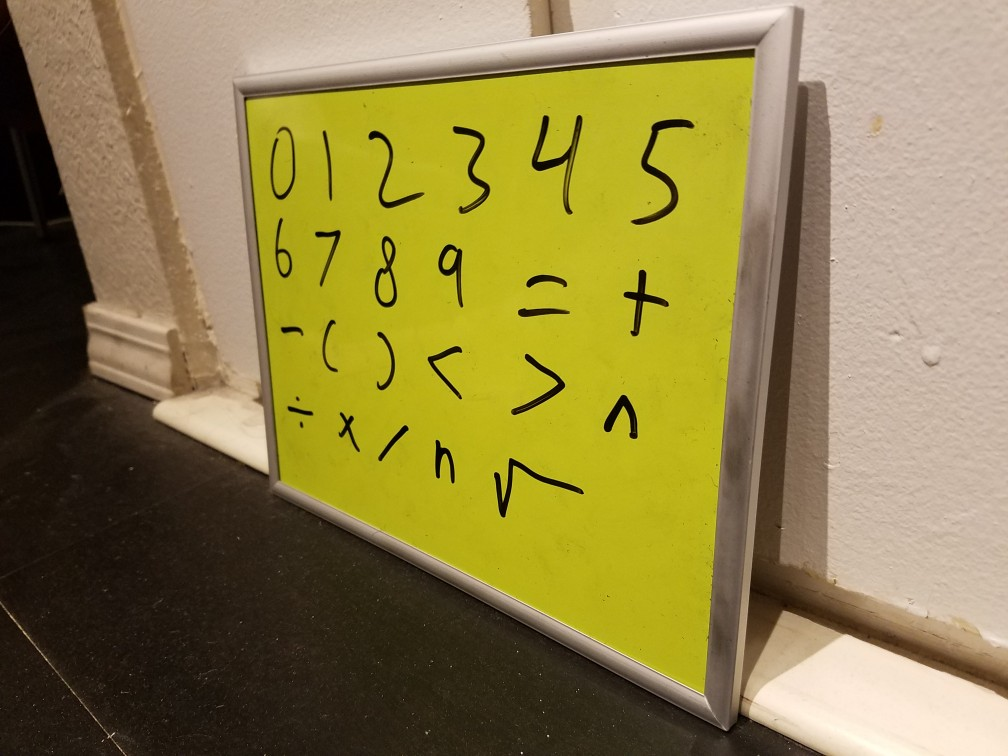(: (315, 315, 346, 379)
): (362, 327, 406, 405)
+: (609, 264, 676, 342)
-: (275, 313, 307, 345)
/: (376, 413, 409, 476)
0: (264, 115, 304, 205)
1: (316, 123, 338, 206)
2: (362, 122, 423, 215)
3: (444, 105, 504, 233)
4: (524, 100, 592, 232)
5: (613, 100, 700, 238)
6: (268, 211, 294, 291)
7: (309, 221, 346, 291)
8: (364, 227, 410, 317)
9: (432, 236, 473, 318)
<: (426, 336, 468, 406)
=: (500, 257, 582, 333)
>: (499, 344, 568, 426)
^: (599, 383, 646, 451)
div: (283, 385, 321, 439)
n: (426, 430, 462, 493)
sqrt: (488, 445, 591, 545)
x: (333, 403, 359, 459)
